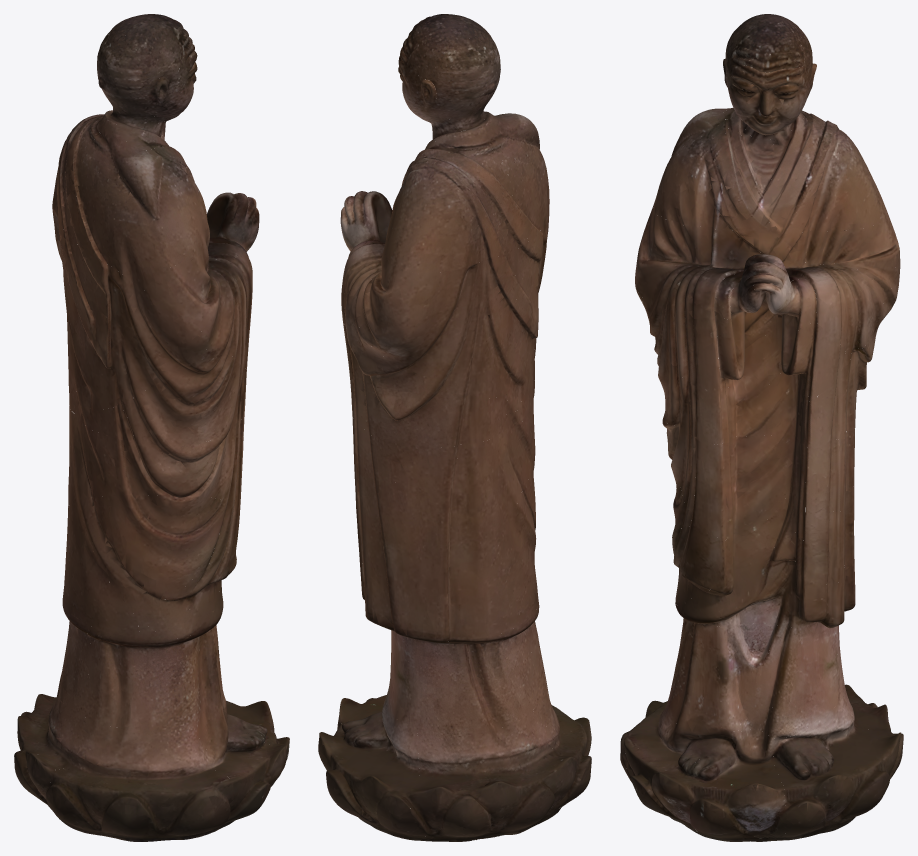
File: f4-kasyapa.glb
The picture shows the model from 3 angles, left to right: view 1: azimuth 30°, elevation 25°; view 2: azimuth 150°, elevation 25°; view 3: azimuth 270°, elevation 25°; orthographic projection.
Visible parts, largest first — view 1: tripo_node_ccd5e551-4540-4980-8fdf-9f654432235f; view 2: tripo_node_ccd5e551-4540-4980-8fdf-9f654432235f; view 3: tripo_node_ccd5e551-4540-4980-8fdf-9f654432235f.
Part boxes in pixels (left/top/right/bottom): tripo_node_ccd5e551-4540-4980-8fdf-9f654432235f: left=14, top=14, right=289, bottom=841; tripo_node_ccd5e551-4540-4980-8fdf-9f654432235f: left=318, top=14, right=591, bottom=841; tripo_node_ccd5e551-4540-4980-8fdf-9f654432235f: left=620, top=14, right=903, bottom=841.
Size of the model in its own units: 0.3127 by 1 by 0.3294.
1 material, 1 textured.
